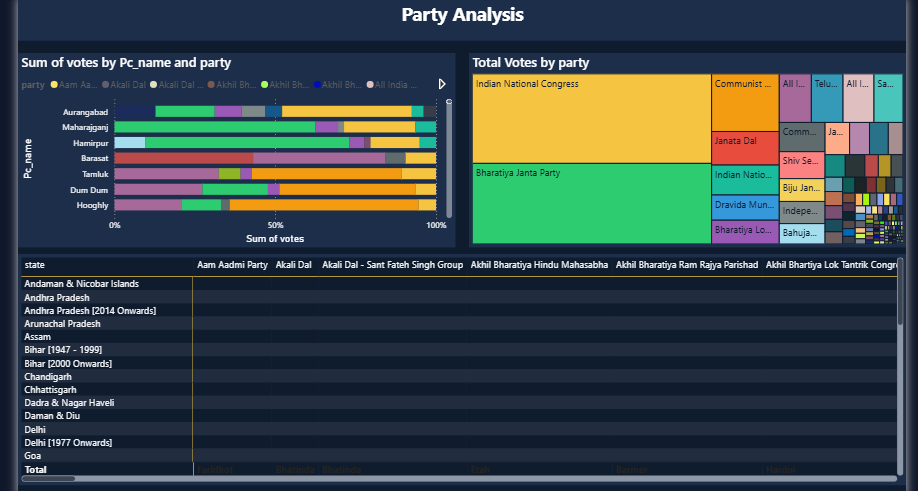

What the dashboard file says about the page in this screenshot:
{"tool":"powerbi","page":{"name":"Page 2","canvas":[1280,720],"ordinal":1},"visuals":[{"type":"hundredPercentStackedBarChart","fields":{"Y":["Sum(final_processed_election_data.votes)"],"Category":["final_processed_election_data.Pc_name"],"Series":["final_processed_election_data.party"]},"box":[0,80,630,280],"z":0},{"type":"treemap","fields":{"Group":["final_processed_election_data.party"],"Values":["final_processed_election_data.Total Votes"]},"box":[650,80,630,280],"z":1000},{"type":"pivotTable","fields":{"Rows":["final_processed_election_data.state"],"Columns":["final_processed_election_data.party"],"Values":["Min(final_processed_election_data.Pc_name)"]},"box":[0,370,1280,332.5],"z":2000},{"type":"textbox","box":[0,0,1280,62.5],"z":3000}]}

Visuals, with their boxes on the page's 1280x720 design canvas (x1, y1, x2, y2). These are canvas units, not pixel positions in the 918x491 screenshot, which may show the page scaled, cropped or inside an application window:
hundredPercentStackedBarChart - Sum(final_processed_election_data.votes) x final_processed_election_data.Pc_name: locate(0, 80, 630, 360)
treemap - final_processed_election_data.party x final_processed_election_data.Total Votes: locate(650, 80, 1280, 360)
pivotTable - final_processed_election_data.state x final_processed_election_data.party: locate(0, 370, 1280, 702)
textbox: locate(0, 0, 1280, 62)
